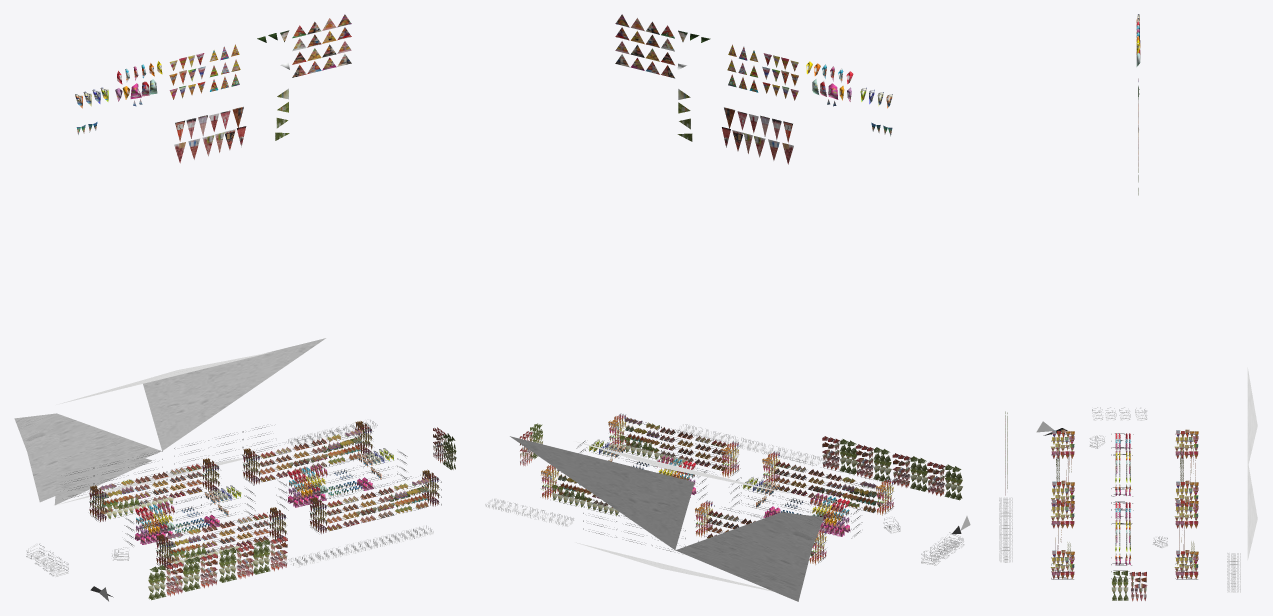
Rendered from building_supermarket.glb.
3 views of the same model, side by side, from view 1: azimuth 30°, elevation 25°; view 2: azimuth 150°, elevation 25°; view 3: azimuth 270°, elevation 25° (orthographic). The views are drawn at different scales.
Parts seen in each view (by area): view 1: building_supermarket; view 2: building_supermarket; view 3: building_supermarket.
Boxes of the visible parts, <box> form: building_supermarket: <box>14,14,456,601</box>; building_supermarket: <box>485,14,970,601</box>; building_supermarket: <box>999,14,1257,601</box>.
Size of the model in its own units: 12.07 by 13.35 by 7.09.
Materials: 14 (9 with a texture image).
